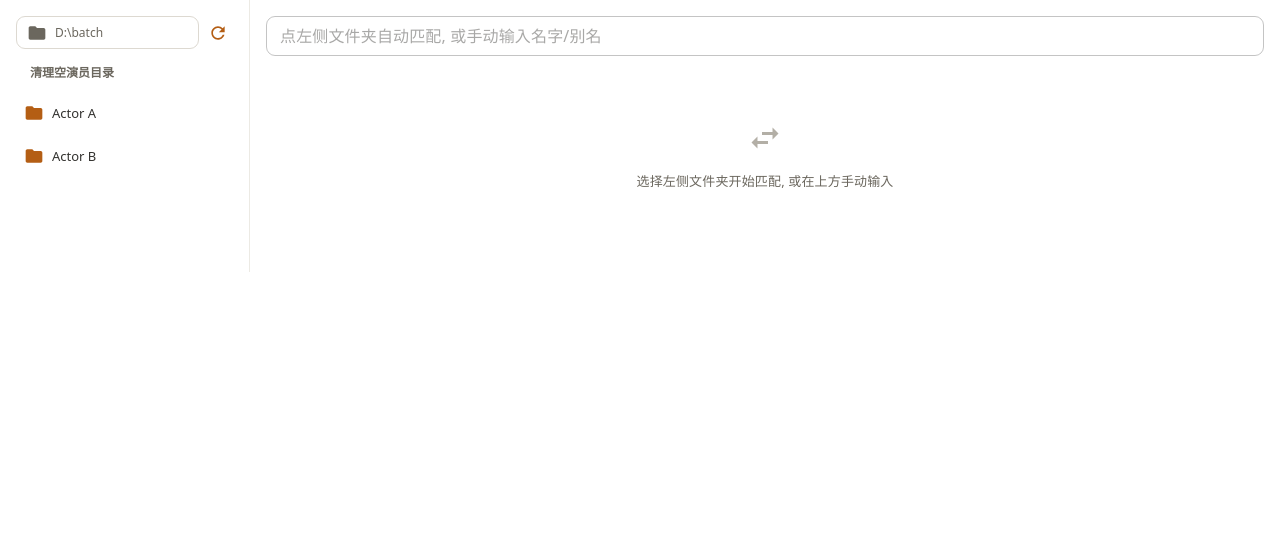
Scenario: batch empty actor cleanup › blocks cleanup while a transfer is being submitted
What coordinates should you click on to do the following:
click the button "Actor A"
I would click on:
 (124, 113)
Its box is left=16, top=96, right=233, bottom=131.
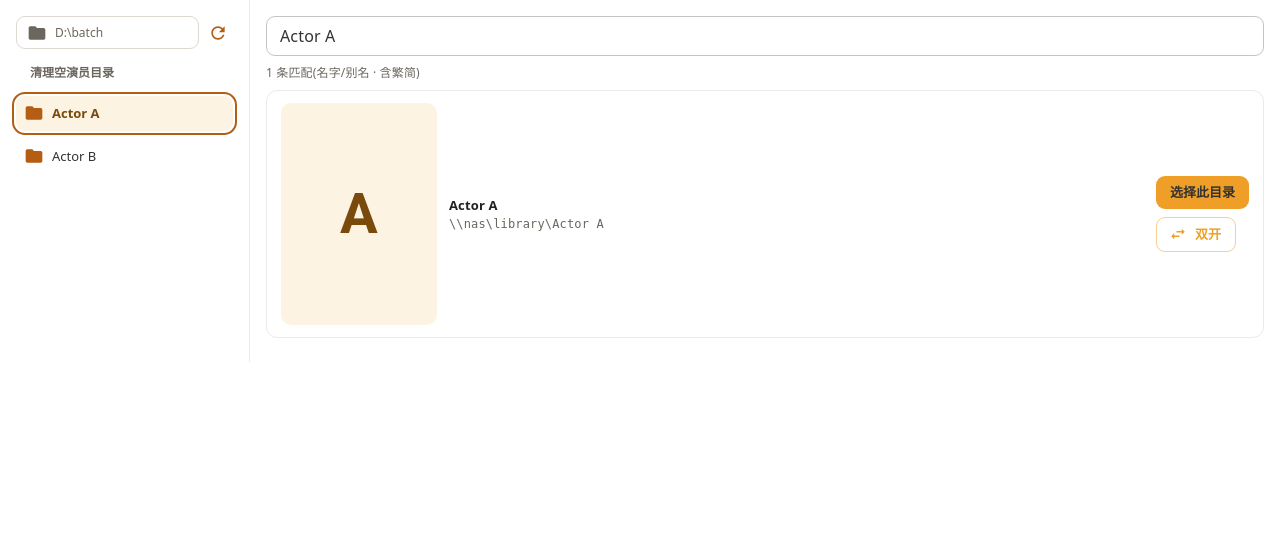
What coordinates should you click on to do the following:
click the button "选择此目录"
I would click on:
 (1202, 193)
Its box is left=1156, top=176, right=1249, bottom=209.
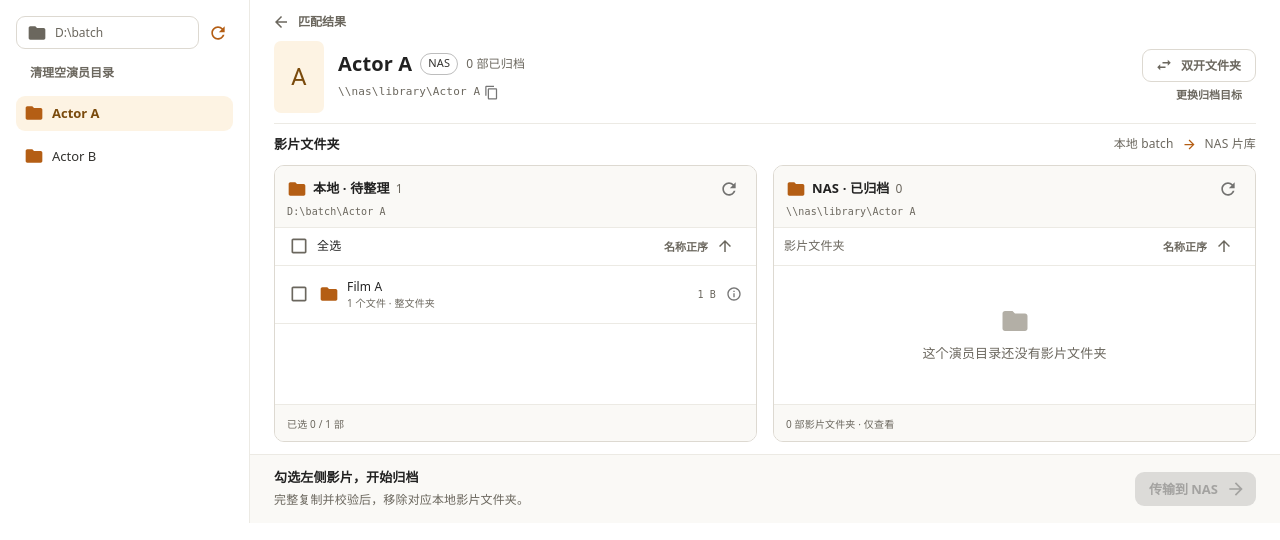
expect the heading "影片文件夹" is shown: met, box left=274, top=134, right=340, bottom=155
What coordinates should you click on to do the following:
click the checkbox named "选择 Film A"
I would click on:
 (365, 287)
Its box is left=287, top=277, right=716, bottom=311.
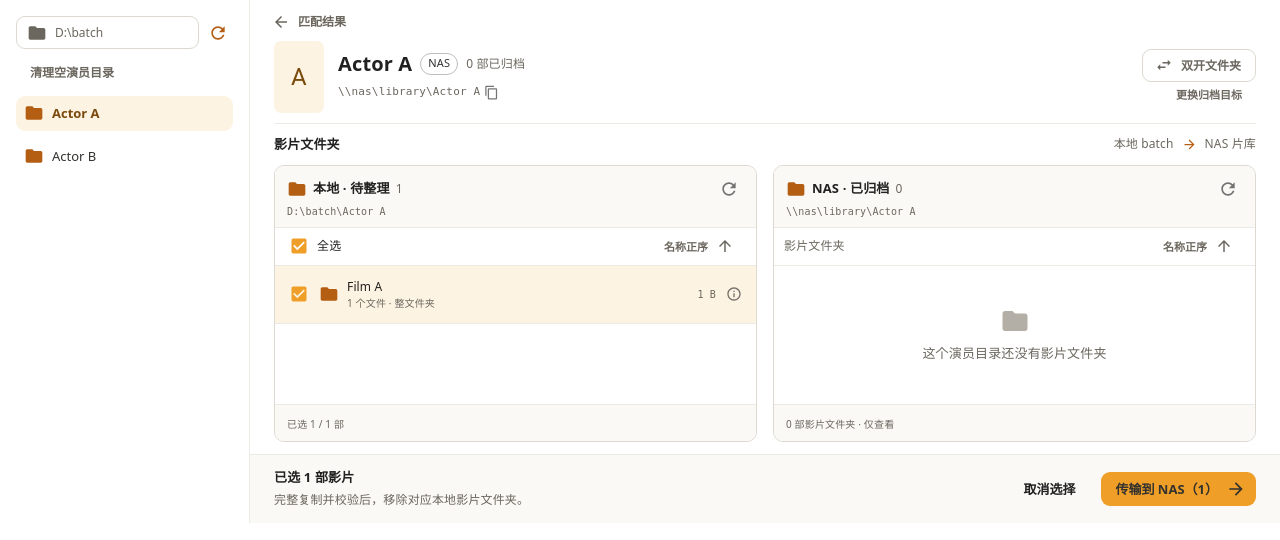
What coordinates should you click on to do the following:
click the button "传输到 NAS（1）"
I would click on:
 (1179, 489)
Its box is left=1102, top=472, right=1256, bottom=506.
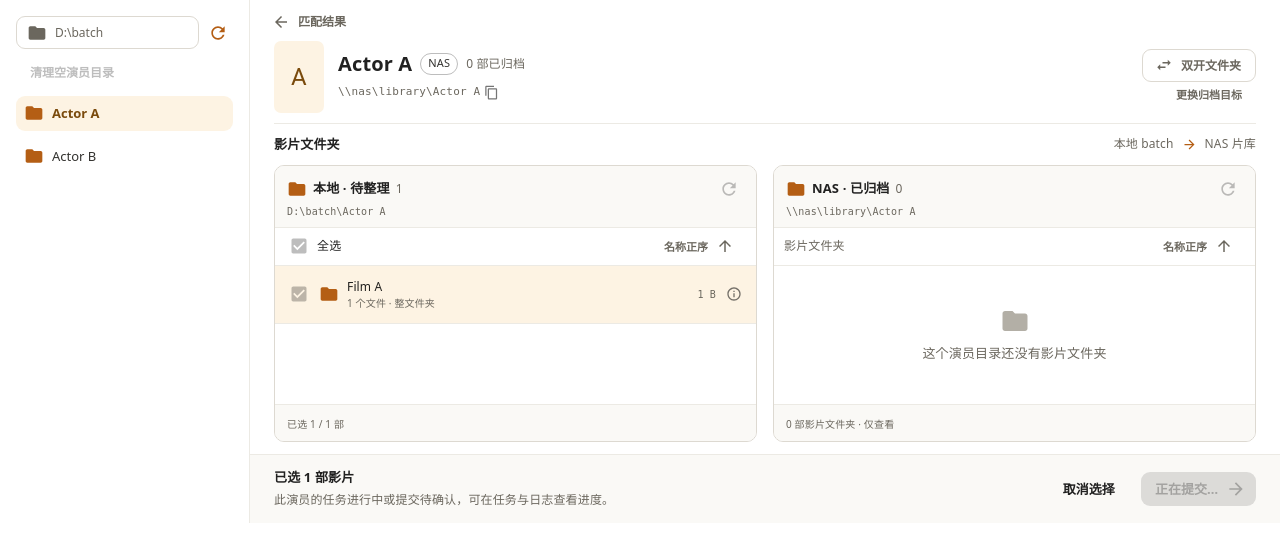
expect the button "清理空演员目录" is disabled: met, box left=16, top=57, right=233, bottom=88
